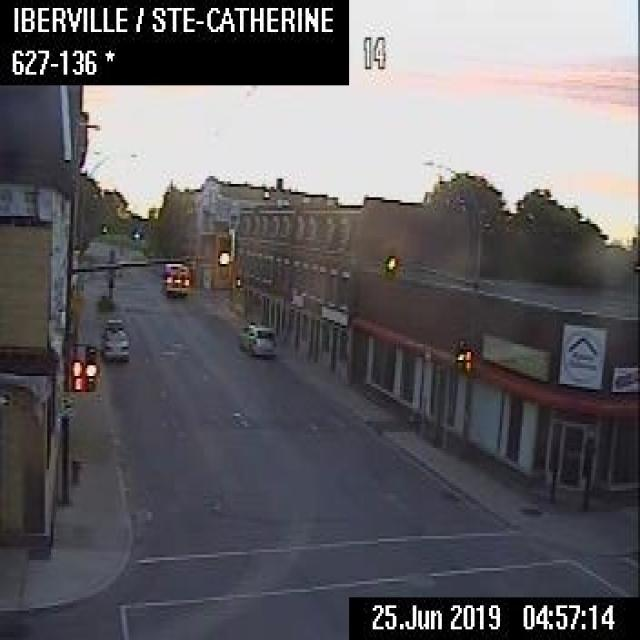bus: (160, 258, 187, 296)
vehicle: (237, 320, 275, 355), (102, 327, 130, 359), (103, 317, 123, 331)
